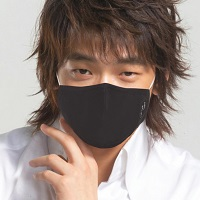face_mask: (57, 24, 152, 145)
